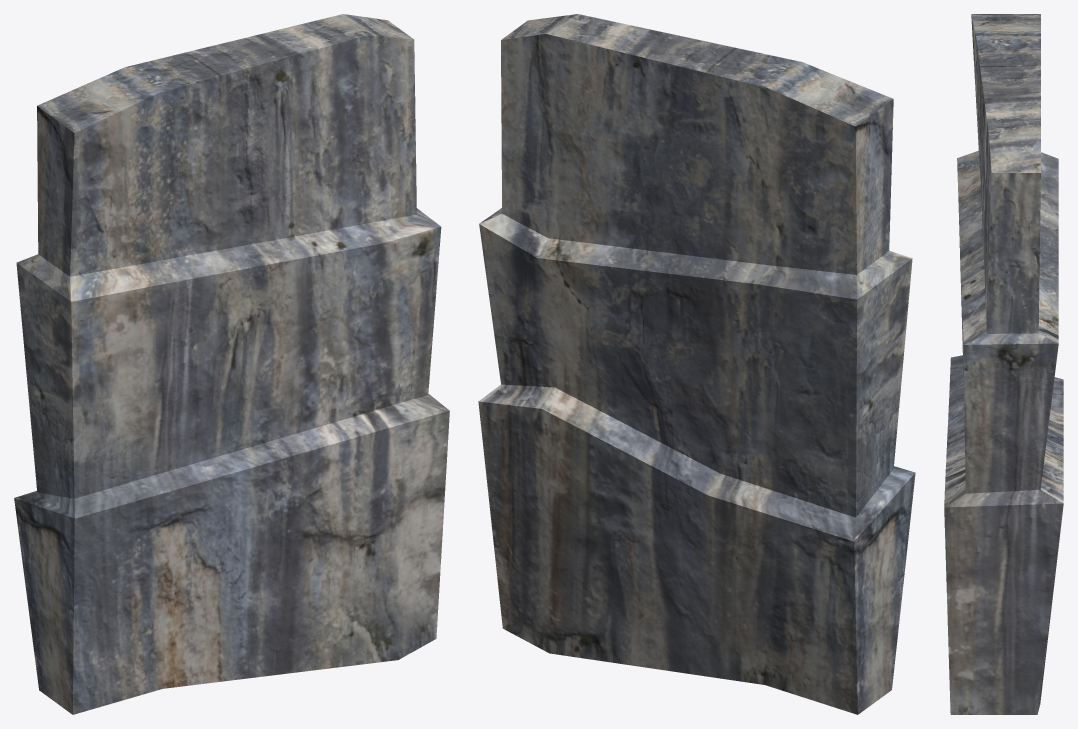
File: RockWall_7.fbx
The picture shows the model from 3 angles, left to right: view 1: azimuth 30°, elevation 25°; view 2: azimuth 150°, elevation 25°; view 3: azimuth 270°, elevation 25°; orthographic projection. The views are drawn at different scales.
Parts seen in each view (by area): view 1: pCube6; view 2: pCube6; view 3: pCube6.
Part boxes in pixels (bbox=[...]): pCube6: bbox=[14, 14, 449, 714]; pCube6: bbox=[478, 14, 915, 714]; pCube6: bbox=[944, 14, 1063, 714].
Size of the model in its own units: 9.06 by 14.17 by 2.7.
